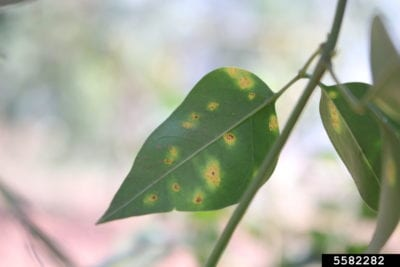unhealthy: (102, 54, 294, 223)
